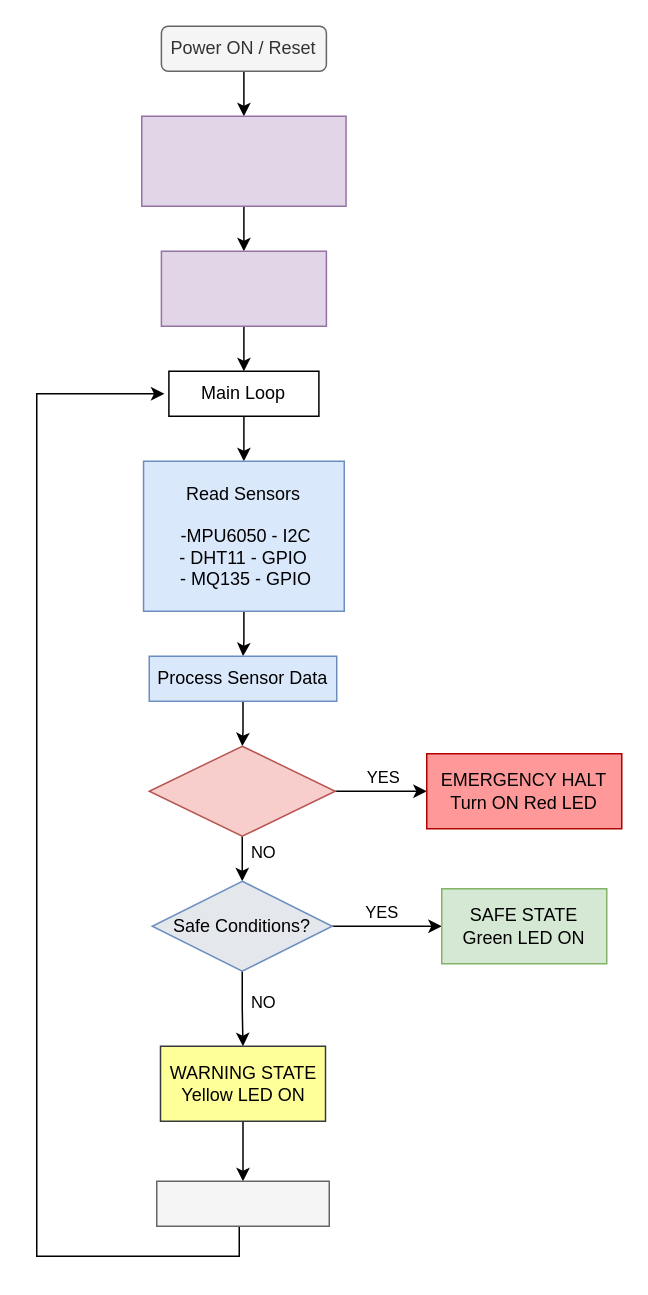
Image size: 648x1295. Some labels were removed from this diagram. The centre of each missing label's shape, as x and y in pixels:
Enable Interrupts: the point at 243,288
Gas Detected?: the point at 241,790
Initialize Peripherals (GPIO, IIC, UART, Interrupts): the point at 243,160
Send Data via UART: the point at 242,1203
